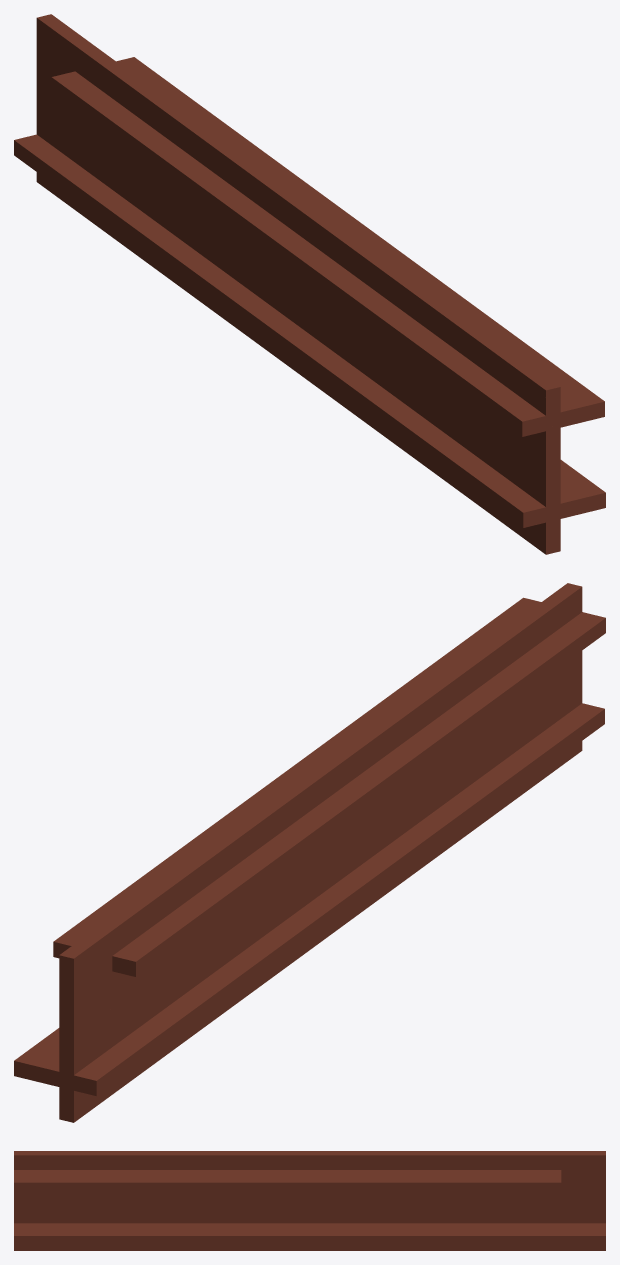
File: lib_malshowcasewood.fbx
3 renders of one model, top to bottom at view 1: azimuth 30°, elevation 25°; view 2: azimuth 150°, elevation 25°; view 3: azimuth 270°, elevation 25°, orthographic. The views are drawn at different scales.
Visible parts, largest first — view 1: Floor.004; view 2: Floor.004; view 3: Floor.004.
Boxes of the visible parts, box(x1,y1,x2,y2) form: Floor.004: box(14, 14, 605, 554); Floor.004: box(14, 583, 605, 1122); Floor.004: box(14, 1151, 605, 1250).
Bounding box in the file's own units: 1241 × 2330 × 13082.
